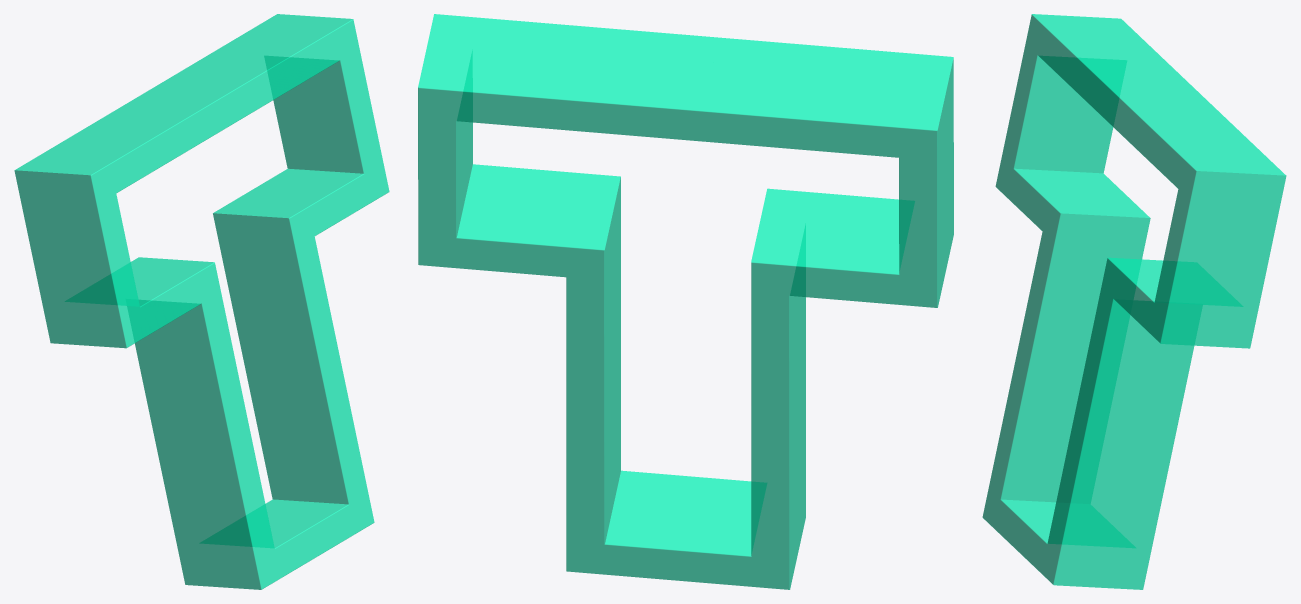
The model's file is tols-t-3d.glb.
3 views of the same model, side by side, from view 1: azimuth 30°, elevation 25°; view 2: azimuth 150°, elevation 25°; view 3: azimuth 270°, elevation 25° (orthographic). The views are drawn at different scales.
Size of the model in its own units: 3.81 by 4.28 by 2.54.
